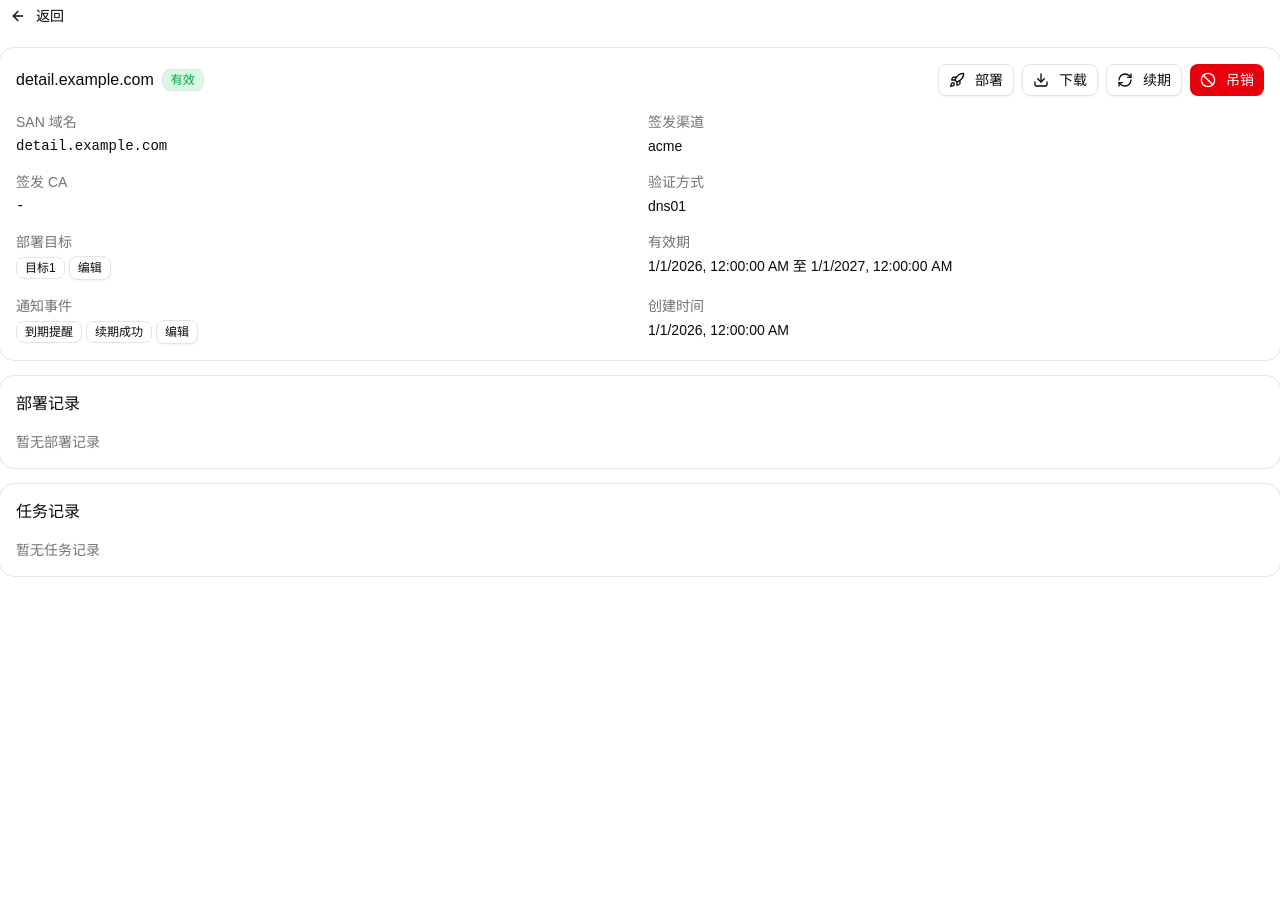
Test: CertificateDetailPage 操作按钮守卫 › ACME 证书：吊销对话框不显示云厂商提示
What coordinates should you click on to do the following:
click the button "吊销"
I would click on:
 (1227, 80)
Its box is left=1190, top=64, right=1264, bottom=96.
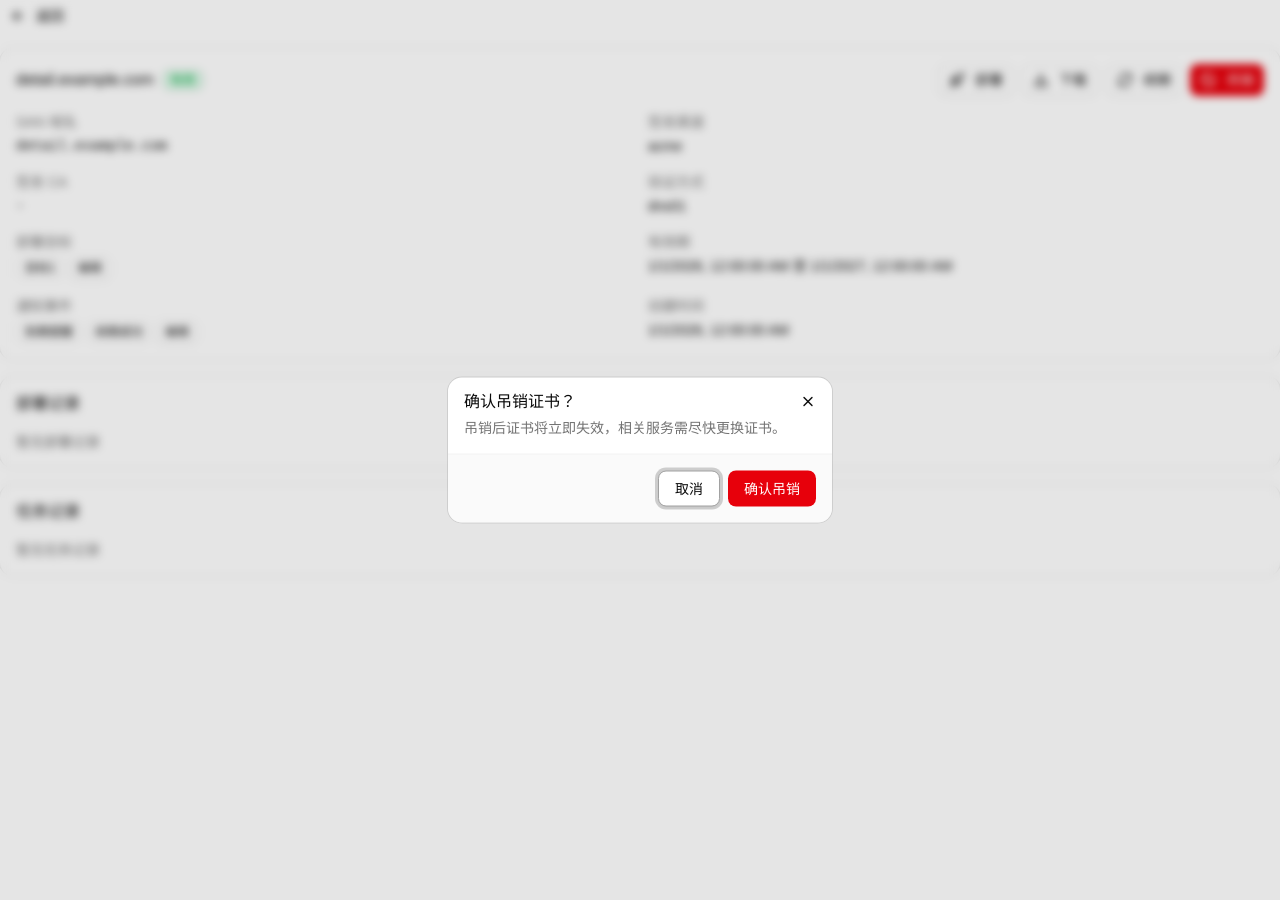
Expected: the text "云厂商渠道不支持吊销" is not shown
Expected: the heading "确认吊销证书？" is shown, left=464, top=392, right=576, bottom=410
